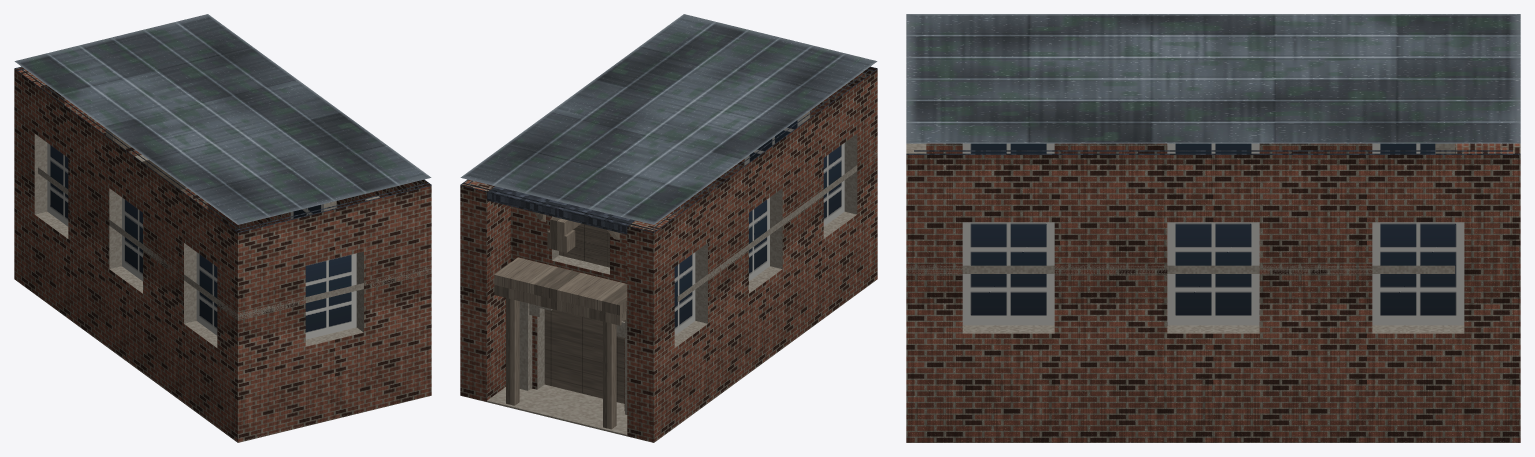
Rendered from bldg-warehouse-wharf-b.glb.
3 views of the same model, side by side, from view 1: azimuth 30°, elevation 25°; view 2: azimuth 150°, elevation 25°; view 3: azimuth 270°, elevation 25° (orthographic). The views are drawn at different scales.
Parts seen in each view (by area): view 1: bldg-warehouse-wharf-b; view 2: bldg-warehouse-wharf-b; view 3: bldg-warehouse-wharf-b.
Boxes of the visible parts, x1=… form: bldg-warehouse-wharf-b: x1=14, y1=14, x2=431, y2=442; bldg-warehouse-wharf-b: x1=460, y1=14, x2=877, y2=442; bldg-warehouse-wharf-b: x1=906, y1=14, x2=1520, y2=442.
Bounding box in the file's own units: 4 × 4.3 × 8.
7 materials, 7 textured.
